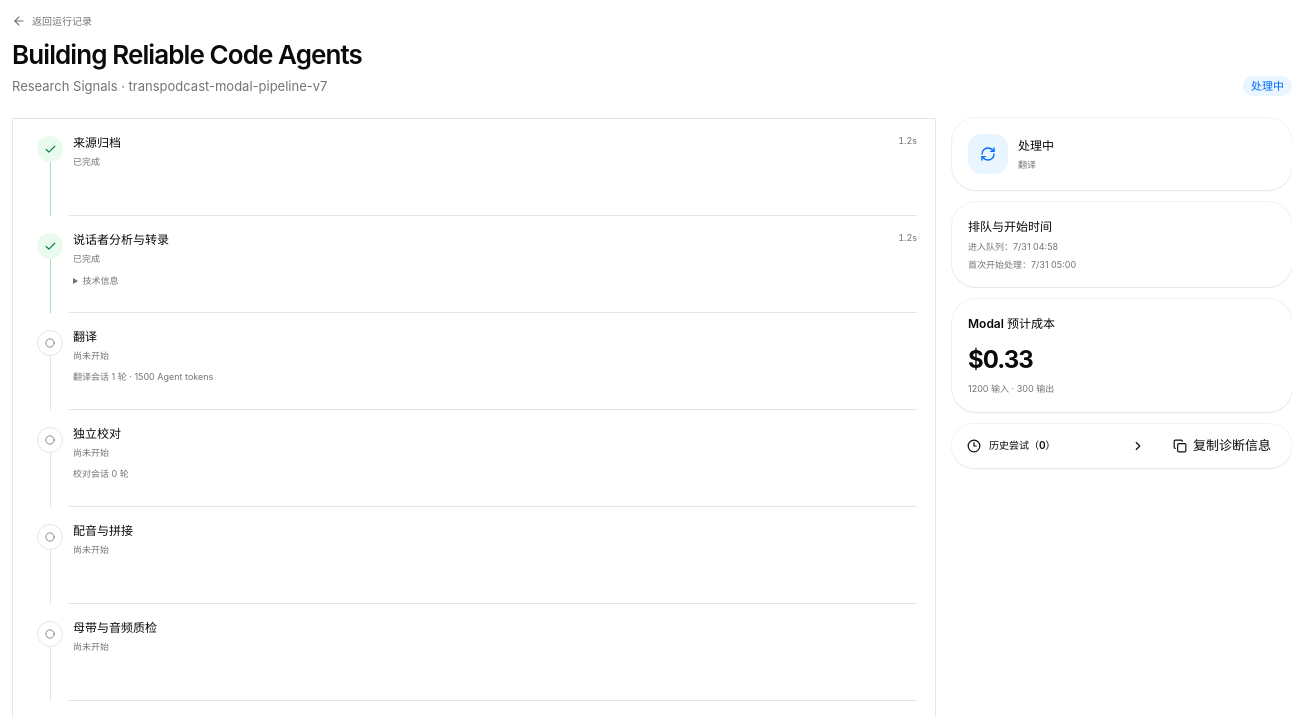
Test: Processing Run experience › shows Modal routing and parallel analysis evidence on demand
Expected: the element "说话者分析与转录" is shown, [13,216,935,313]
Click the heading "技术信息" at (100,280), box [82,275,118,286]
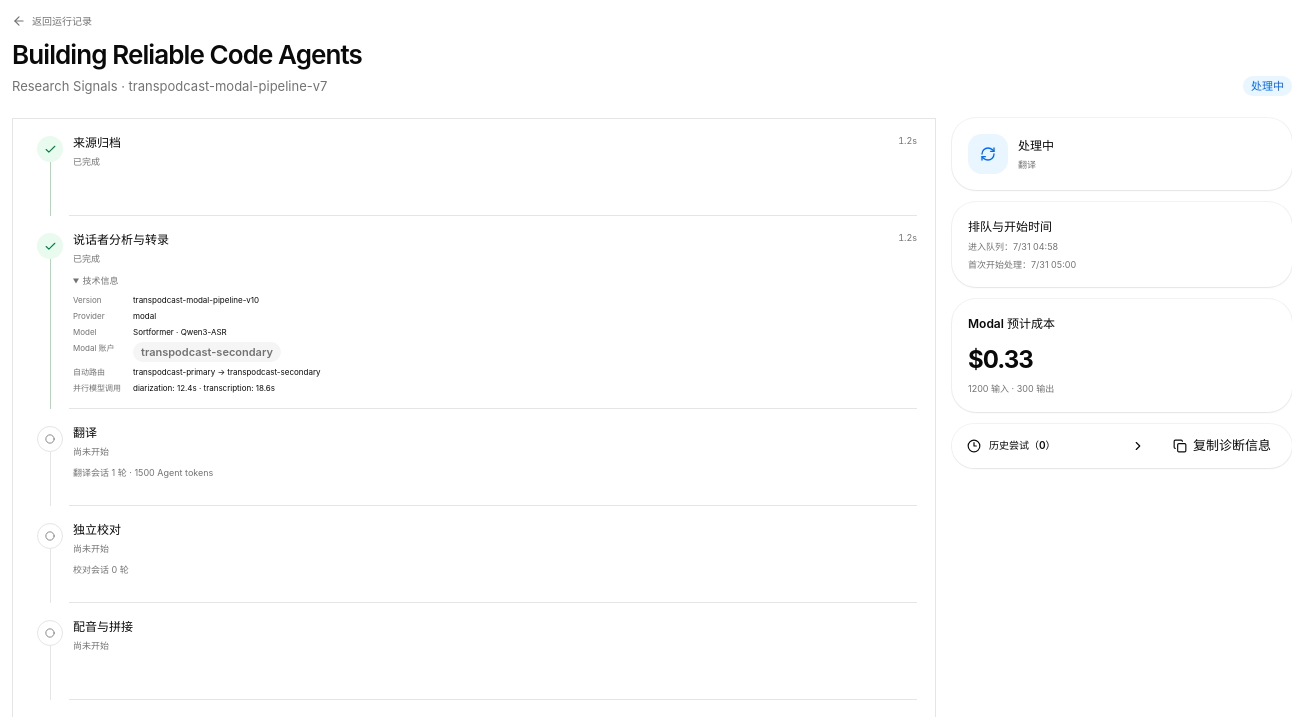
Result: the text "transpodcast-secondary" is shown at [133,342,281,362]
Result: the text "transpodcast-primary → transpodcast-secondary" is shown at [133,367,320,377]
Result: the text "diarization: 12.4s · transcription: 18.6s" is shown at [133,383,275,393]
